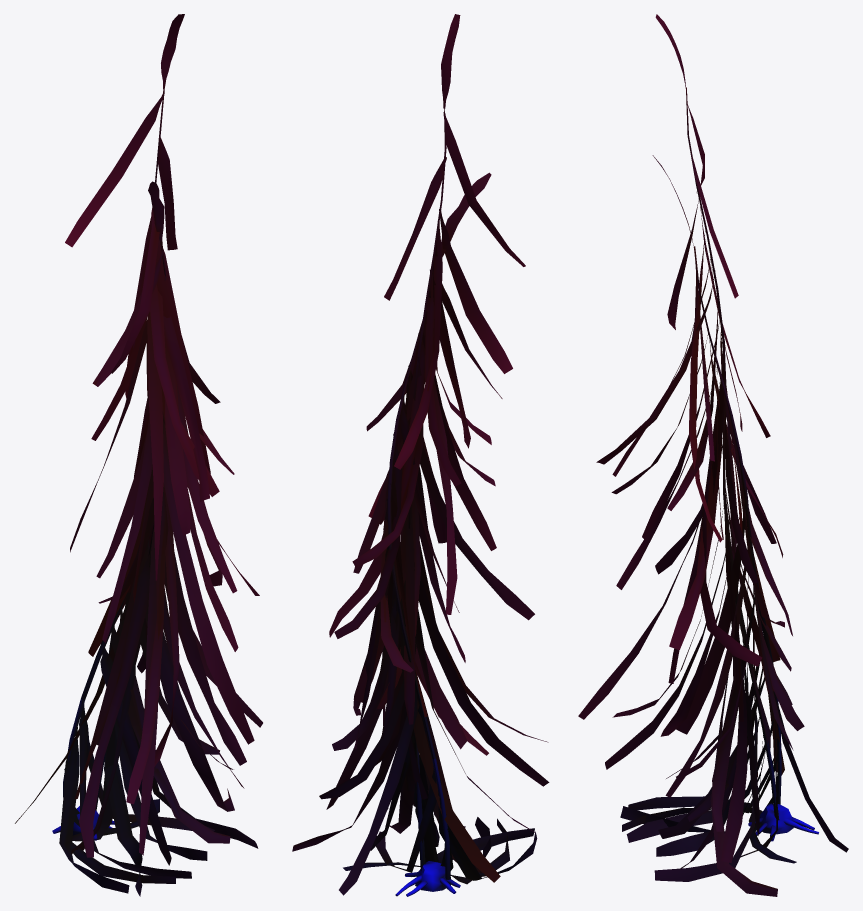
The model's file is MESH_Flora_Kelp_s4027_q100.fbx.
The picture shows the model from 3 angles, left to right: view 1: azimuth 30°, elevation 25°; view 2: azimuth 150°, elevation 25°; view 3: azimuth 270°, elevation 25°; orthographic projection. The views are drawn at different scales.
Parts seen in each view (by area): view 1: MESH_Flora_Kelp_s4027_q100_LOD0; view 2: MESH_Flora_Kelp_s4027_q100_LOD0; view 3: MESH_Flora_Kelp_s4027_q100_LOD0.
Boxes of the visible parts, x1,y1,x2,y2 form: MESH_Flora_Kelp_s4027_q100_LOD0: [15, 14, 262, 896]; MESH_Flora_Kelp_s4027_q100_LOD0: [292, 14, 549, 896]; MESH_Flora_Kelp_s4027_q100_LOD0: [578, 14, 848, 896].
Size of what is drawn, in the model's own units: 229 by 870 by 256.
